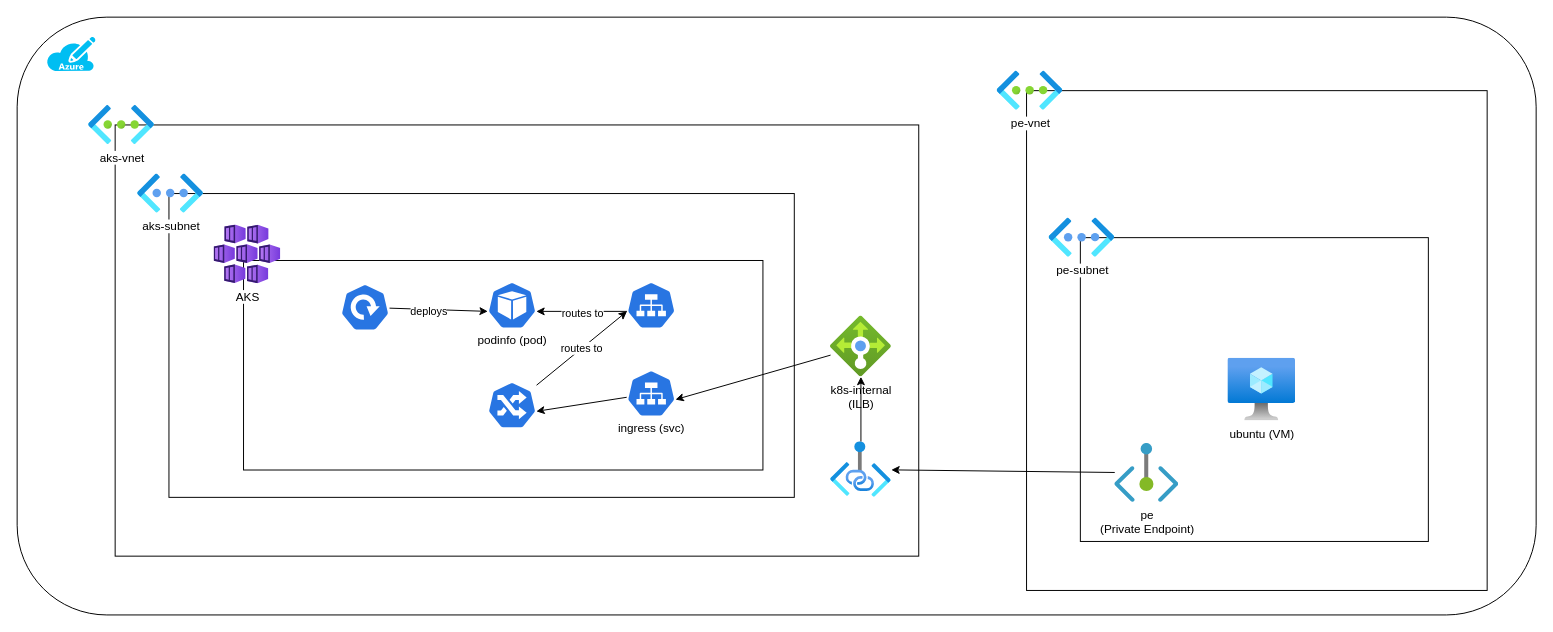
This 1553x632 diagram has some shape labels left out. The shapes that lost their labels are listed below. From the top down, each one's centre as x and y in pixels, then its label:
(x=70, y=53): Subscription
(x=365, y=307): podinfo (deploy)
(x=651, y=305): podinfo (svc)
(x=512, y=405): podinfo-ingress
(x=860, y=469): aks-pls (Private Link Service)
